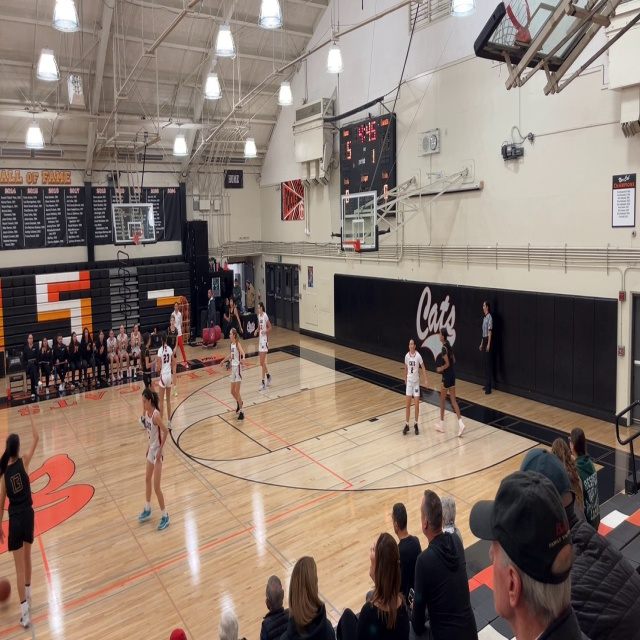Basketball: (0, 579, 11, 601)
